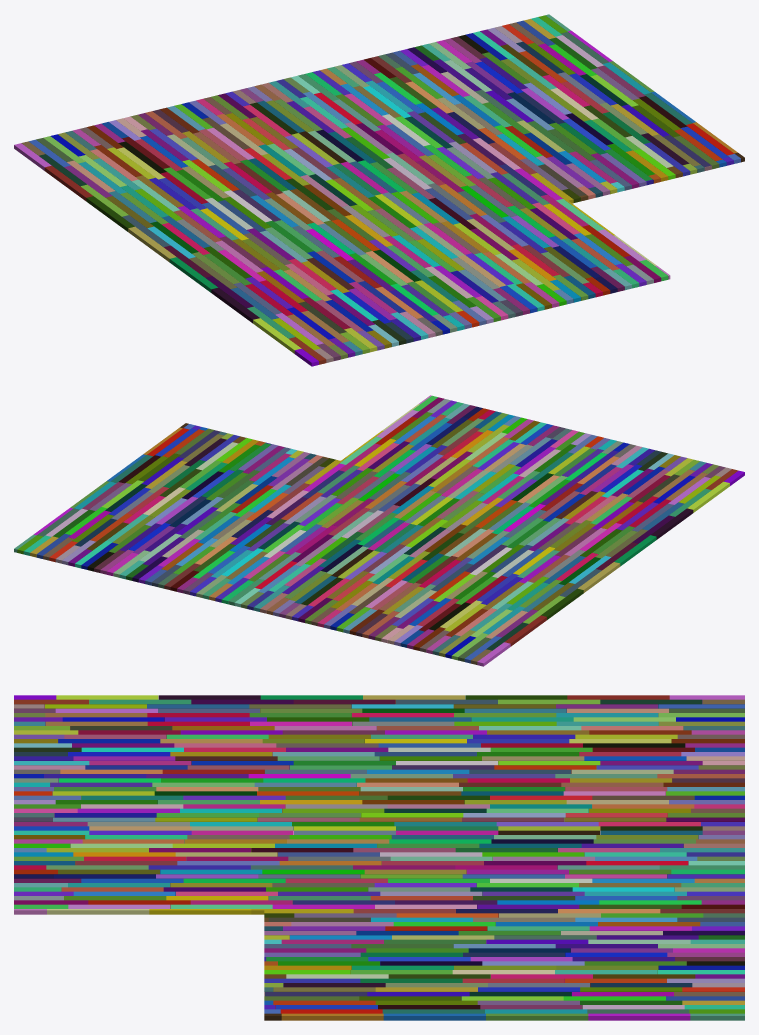
File: floo.fbx
The picture shows the model from 3 angles, top to bottom: view 1: azimuth 30°, elevation 25°; view 2: azimuth 150°, elevation 25°; view 3: azimuth 270°, elevation 25°; orthographic projection. The views are drawn at different scales.
Parts seen in each view (by area): view 1: Floor.005; view 2: Floor.005; view 3: Floor.005.
Part boxes in pixels (box(x1,y1,x2,y2)): Floor.005: box(14, 14, 744, 366); Floor.005: box(14, 395, 744, 666); Floor.005: box(14, 695, 744, 1020).
Size of the model in its own units: 1485 by 10 by 1432.
